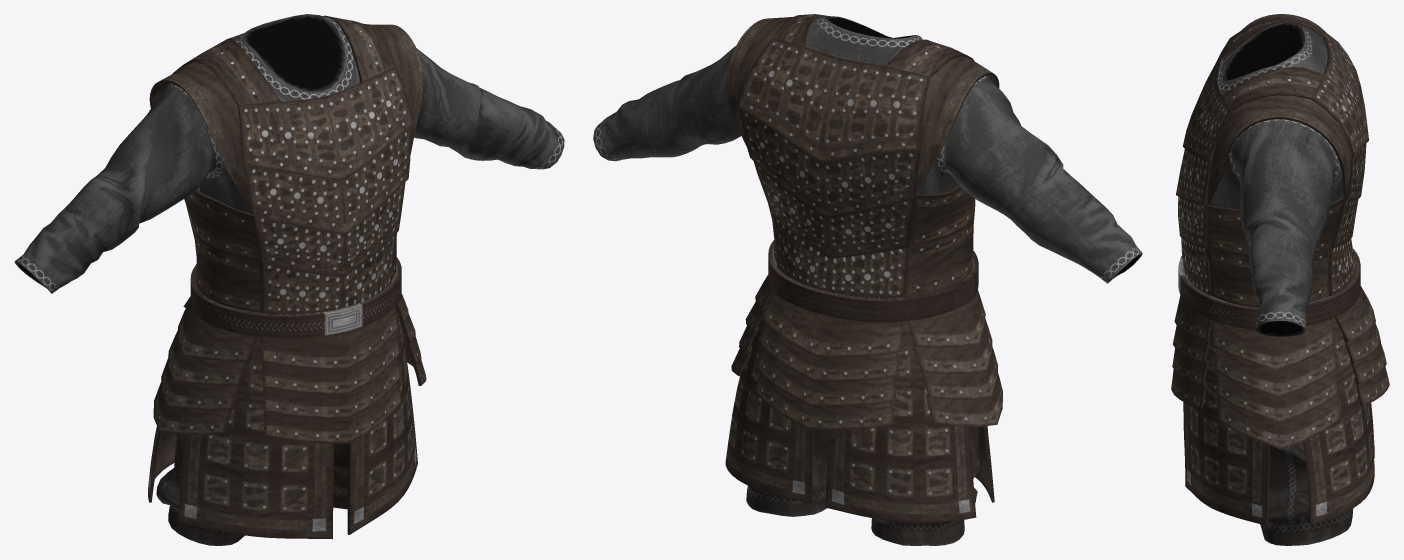
The model's file is sk_dwarf_erebor_chest_leather_med_a.fbx.
The picture shows the model from 3 angles, left to right: view 1: azimuth 30°, elevation 25°; view 2: azimuth 150°, elevation 25°; view 3: azimuth 270°, elevation 25°; orthographic projection. The views are drawn at different scales.
Visible parts, largest first — view 1: sk_dwarf_erebor_chest_leather_med_a.0, sk_dwarf_erebor_chest_leather_med_a.1; view 2: sk_dwarf_erebor_chest_leather_med_a.0, sk_dwarf_erebor_chest_leather_med_a.1; view 3: sk_dwarf_erebor_chest_leather_med_a.0, sk_dwarf_erebor_chest_leather_med_a.1.
Boxes of the visible parts, left/top/right/bottom form: sk_dwarf_erebor_chest_leather_med_a.0: left=14, top=14, right=564, bottom=539; sk_dwarf_erebor_chest_leather_med_a.1: left=156, top=434, right=348, bottom=545; sk_dwarf_erebor_chest_leather_med_a.0: left=593, top=14, right=1142, bottom=522; sk_dwarf_erebor_chest_leather_med_a.1: left=746, top=426, right=979, bottom=545; sk_dwarf_erebor_chest_leather_med_a.0: left=1171, top=14, right=1389, bottom=525; sk_dwarf_erebor_chest_leather_med_a.1: left=1260, top=442, right=1353, bottom=545.
Bounding box in the file's own units: 1.17 × 0.4355 × 1.02.
2 materials, 2 textured.
